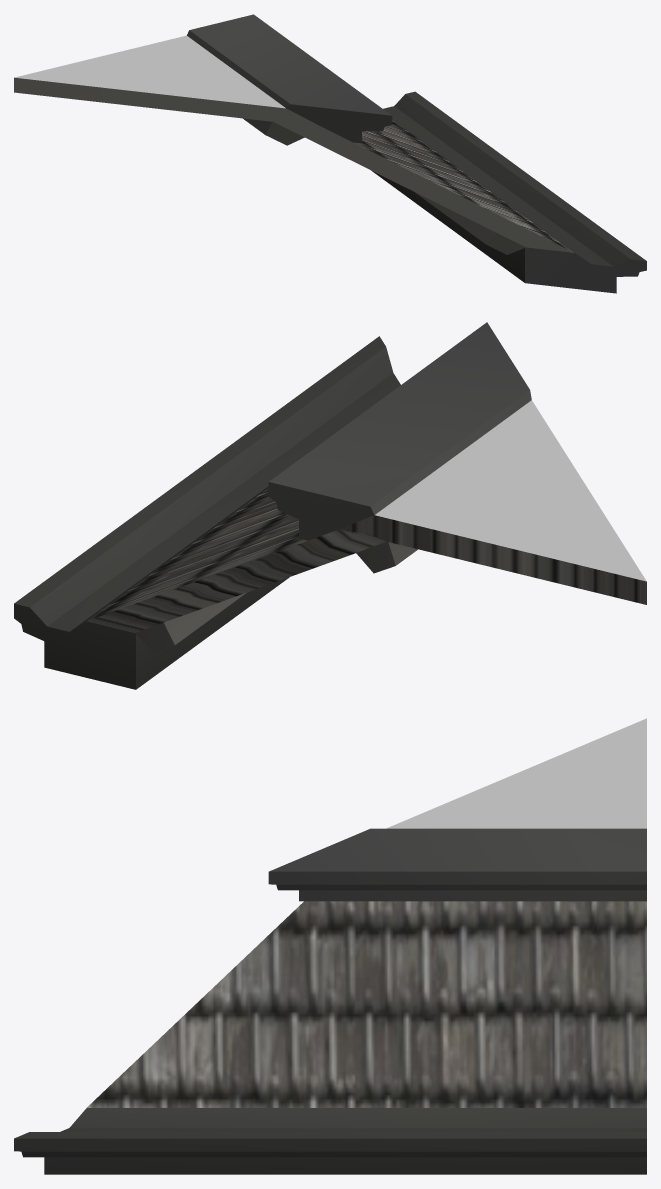
Rendered from SEMI ROOF 2.fbx.
3 views of the same model, one above another, from view 1: azimuth 30°, elevation 25°; view 2: azimuth 150°, elevation 25°; view 3: azimuth 270°, elevation 25° (orthographic). The views are drawn at different scales.
Visible parts, largest first — view 1: SemiRoof2; view 2: SemiRoof2; view 3: SemiRoof2.
Part boxes in pixels (x1=…): SemiRoof2: x1=14, y1=14, x2=646, y2=293; SemiRoof2: x1=14, y1=322, x2=646, y2=689; SemiRoof2: x1=14, y1=718, x2=646, y2=1174.
Size of the model in its own units: 295 by 107 by 295.
